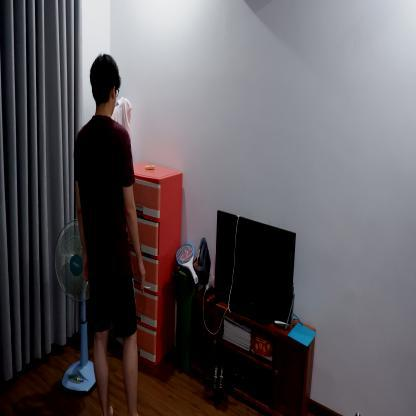cigarette: (143, 286, 151, 290)
person: (72, 50, 150, 415)
